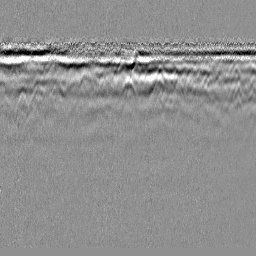cavity: (119, 75, 137, 97)
